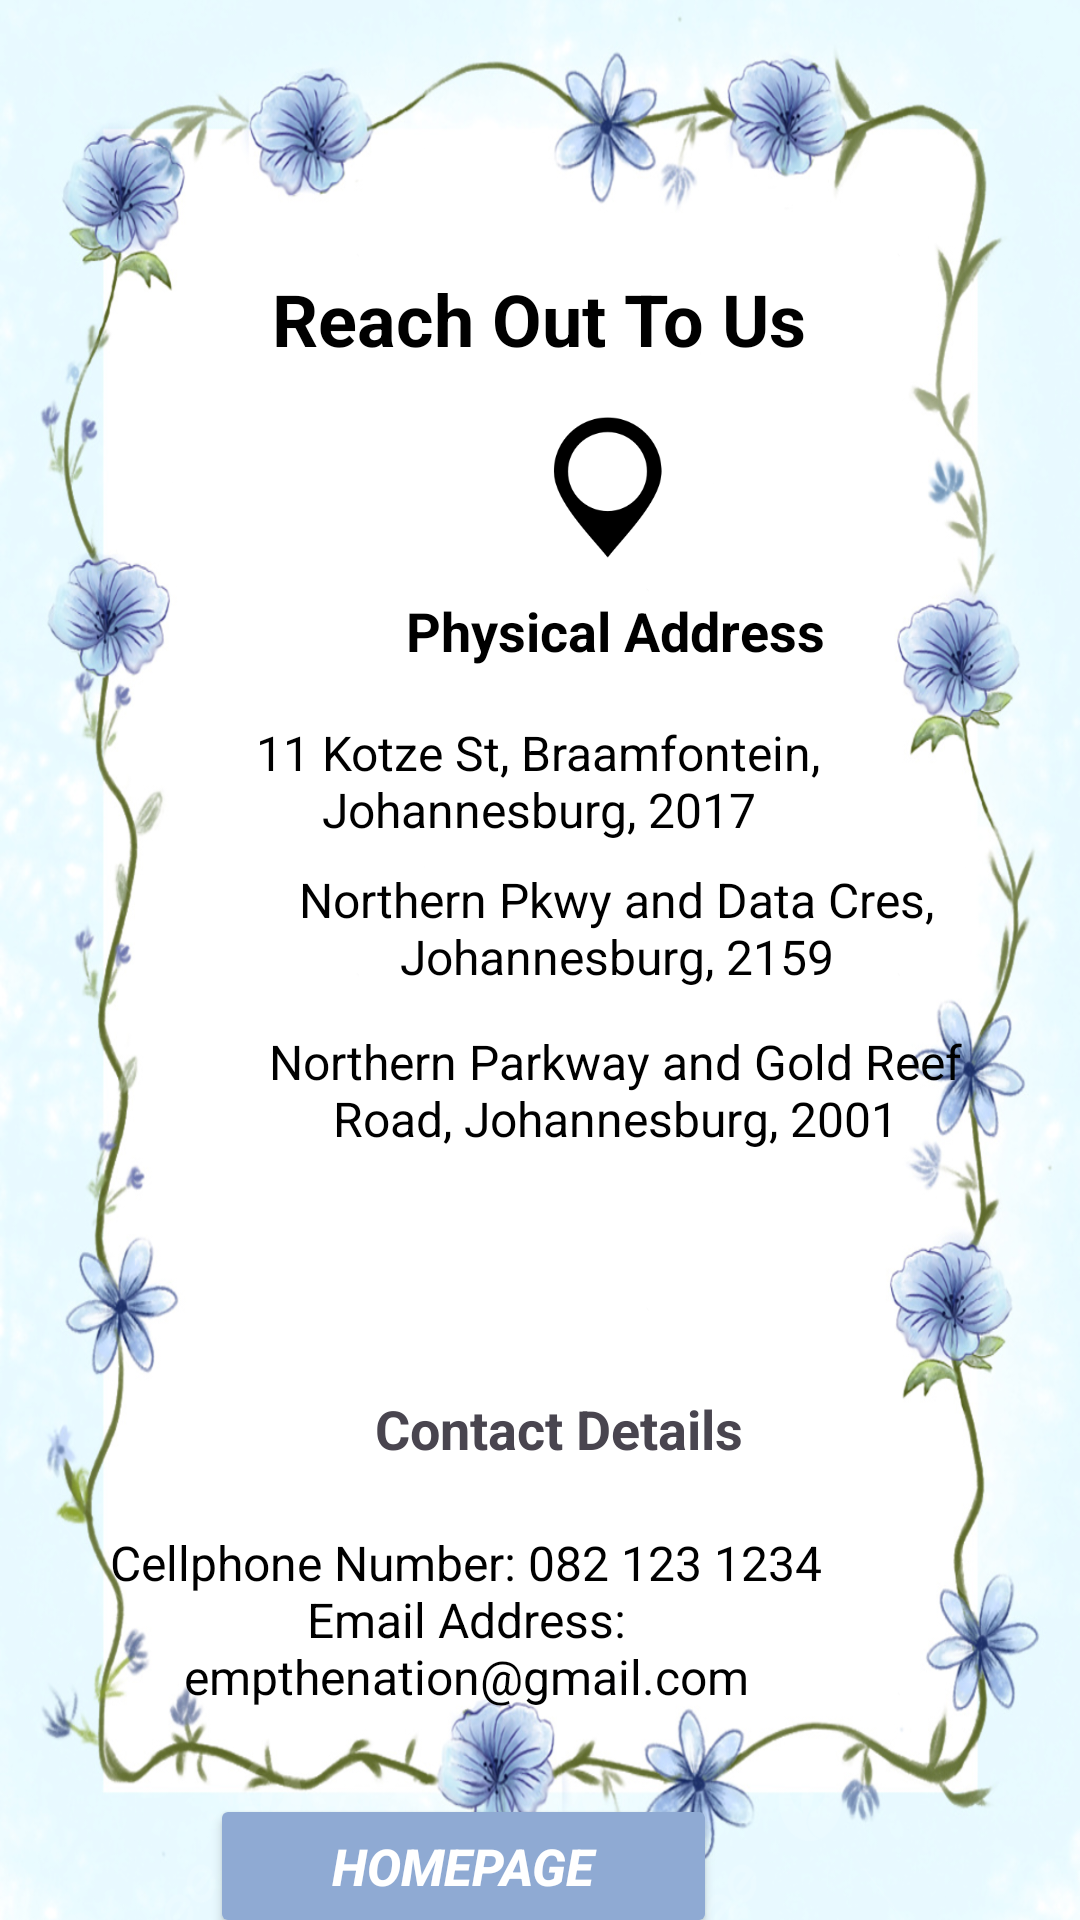

Named icons in this screenshot (1080 x 1920) and their centers, (x=x, y=y):
location tag: (x=608, y=487)
